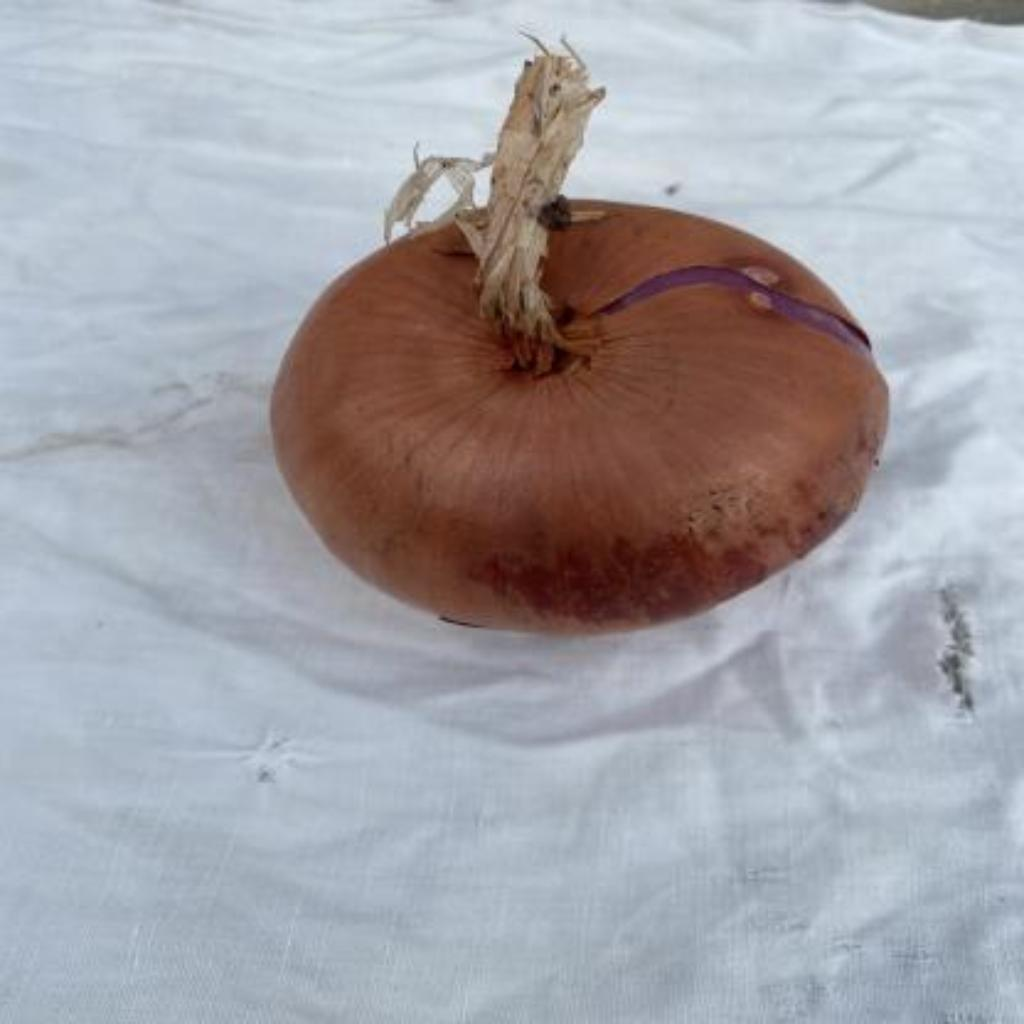Onion: (271, 39, 891, 634)
